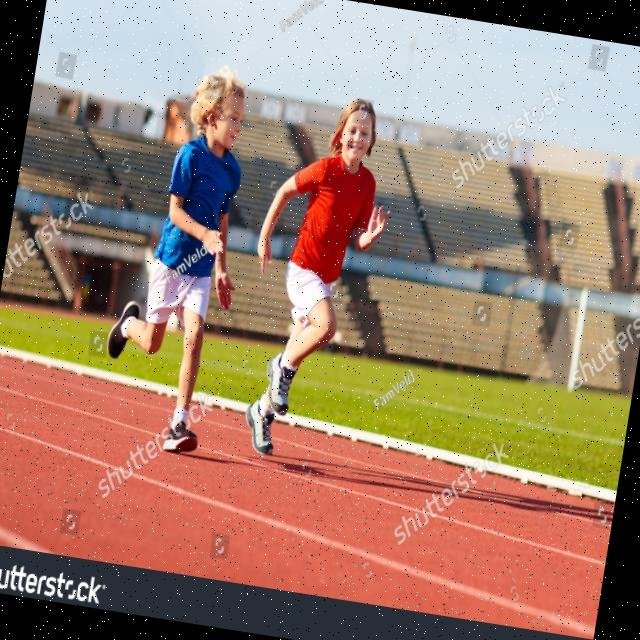Person: (94, 59, 268, 456), (226, 88, 406, 470)
